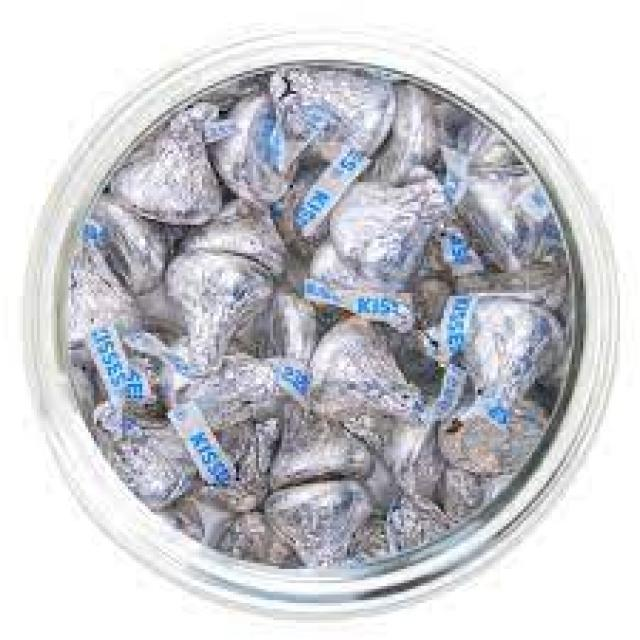kisses: (444, 296, 576, 426), (310, 174, 462, 285), (82, 394, 221, 513), (251, 371, 380, 495), (104, 106, 232, 229), (260, 61, 402, 170), (288, 309, 432, 415), (162, 250, 274, 382), (61, 234, 151, 365), (256, 481, 374, 580)
